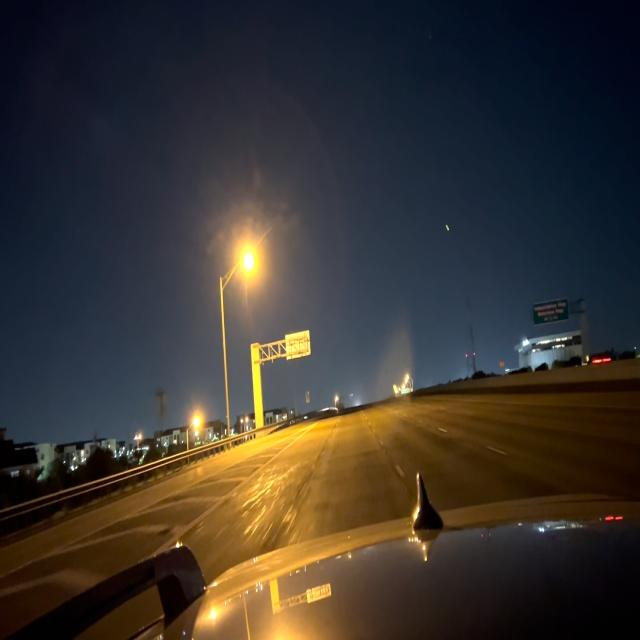back-of-sign: (286, 328, 310, 366)
